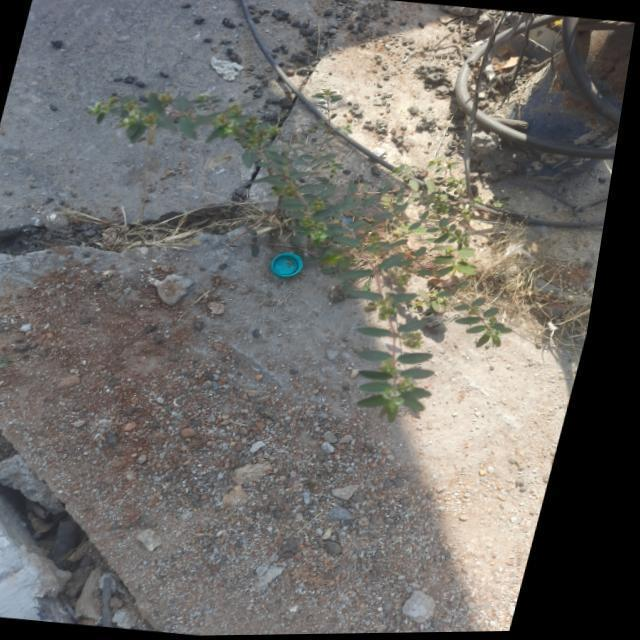Background: (0, 0, 636, 636)
Plastic: (278, 253, 312, 278)
